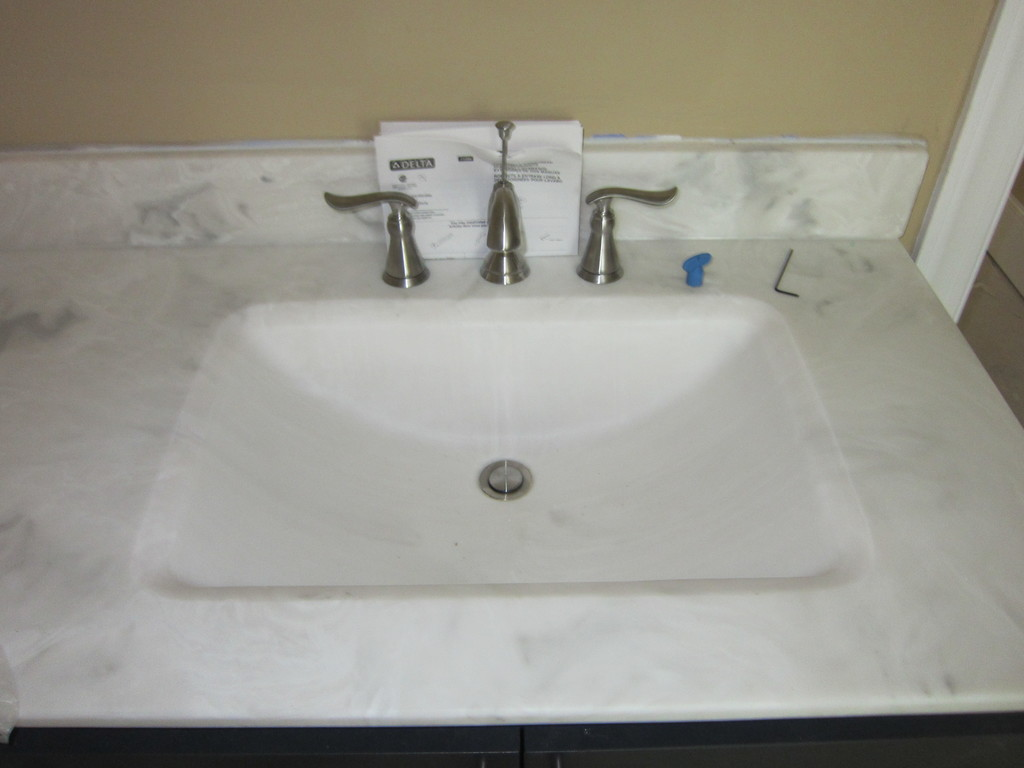tap: (480, 181, 528, 284)
